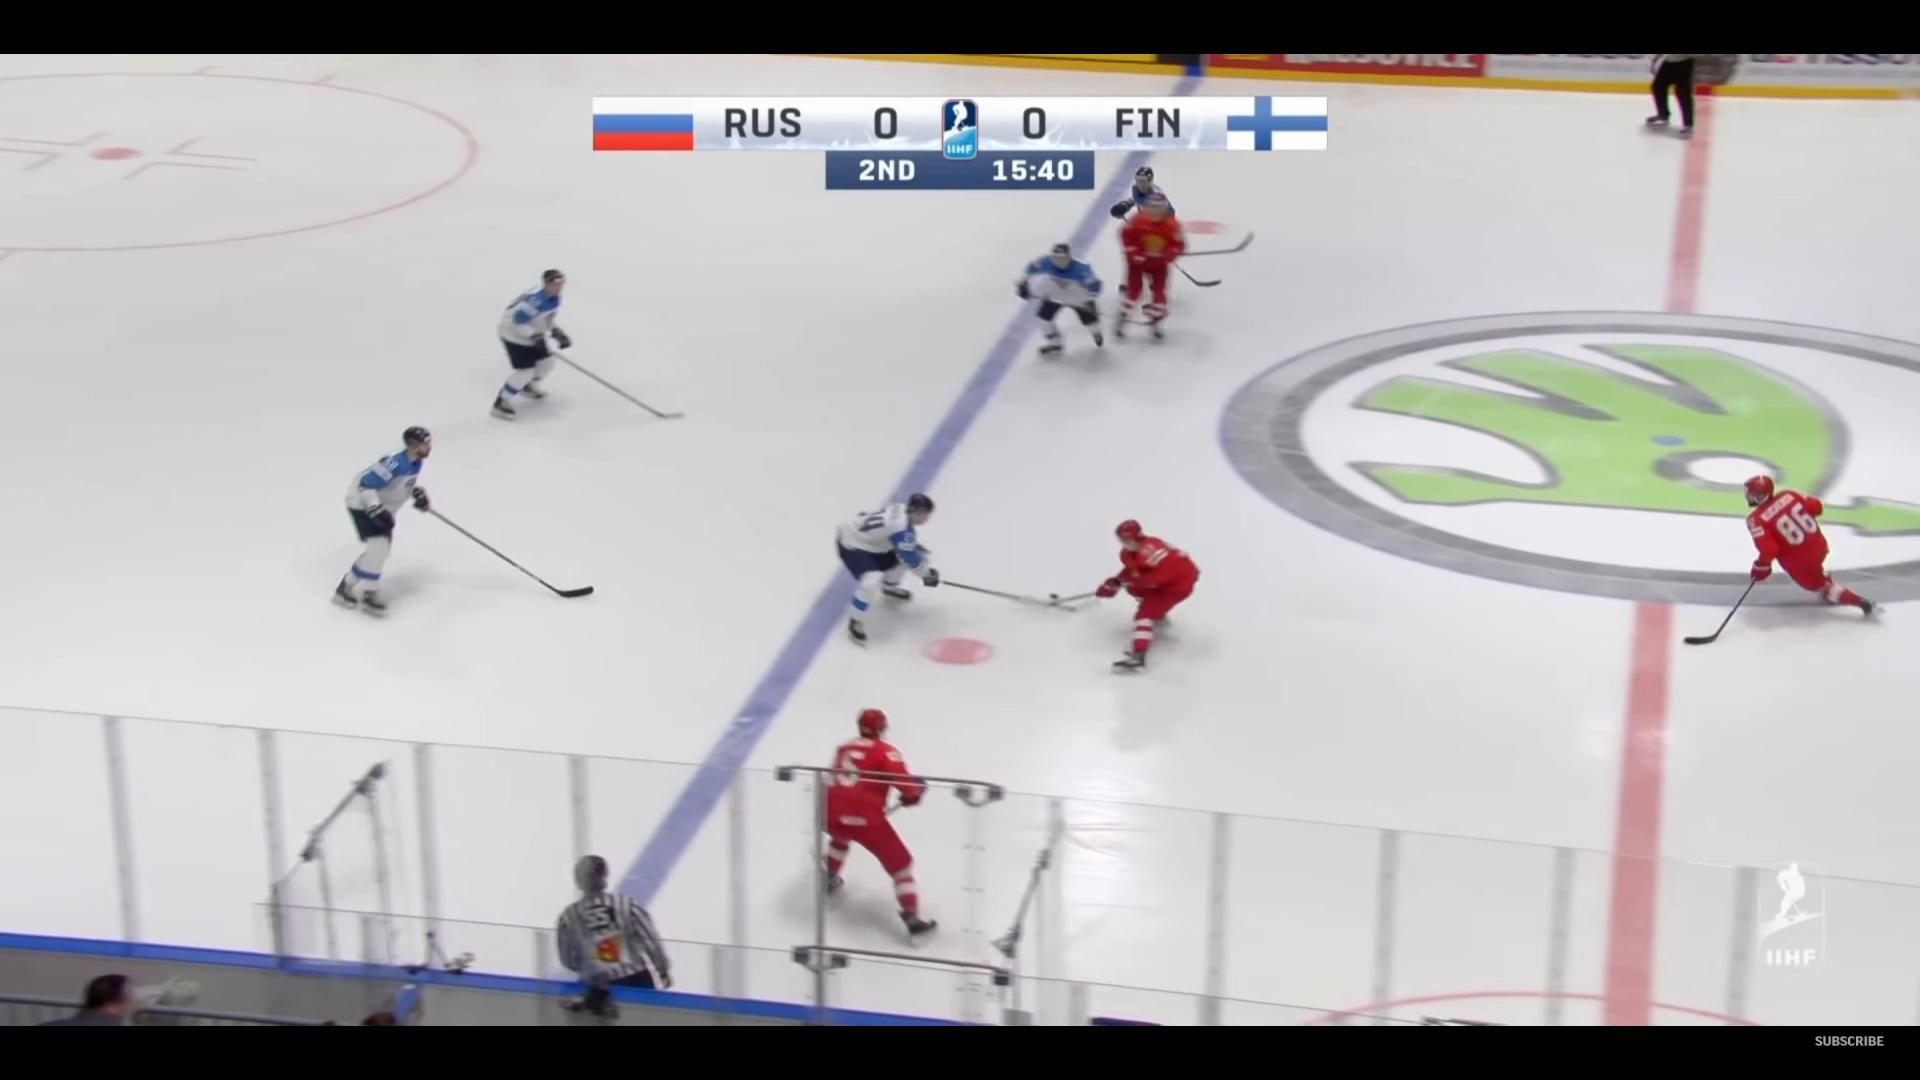puck: (1049, 593, 1058, 598)
